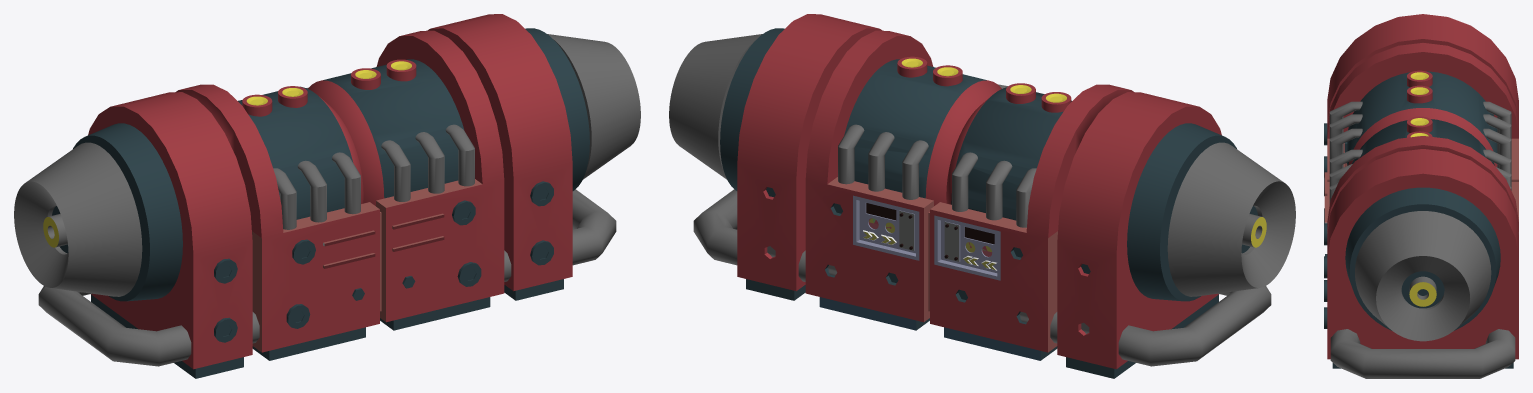
File: EngineTurbine_2.fbx
The picture shows the model from 3 angles, left to right: view 1: azimuth 30°, elevation 25°; view 2: azimuth 150°, elevation 25°; view 3: azimuth 270°, elevation 25°; orthographic projection. The views are drawn at different scales.
Visible parts, largest first — view 1: Model; view 2: Model; view 3: Model.
Boxes of the visible parts, x1,y1,x2,y2 form: Model: (14, 14, 640, 378); Model: (669, 14, 1295, 378); Model: (1324, 14, 1518, 378).
Bounding box in the file's own units: 832 × 317 × 284.
